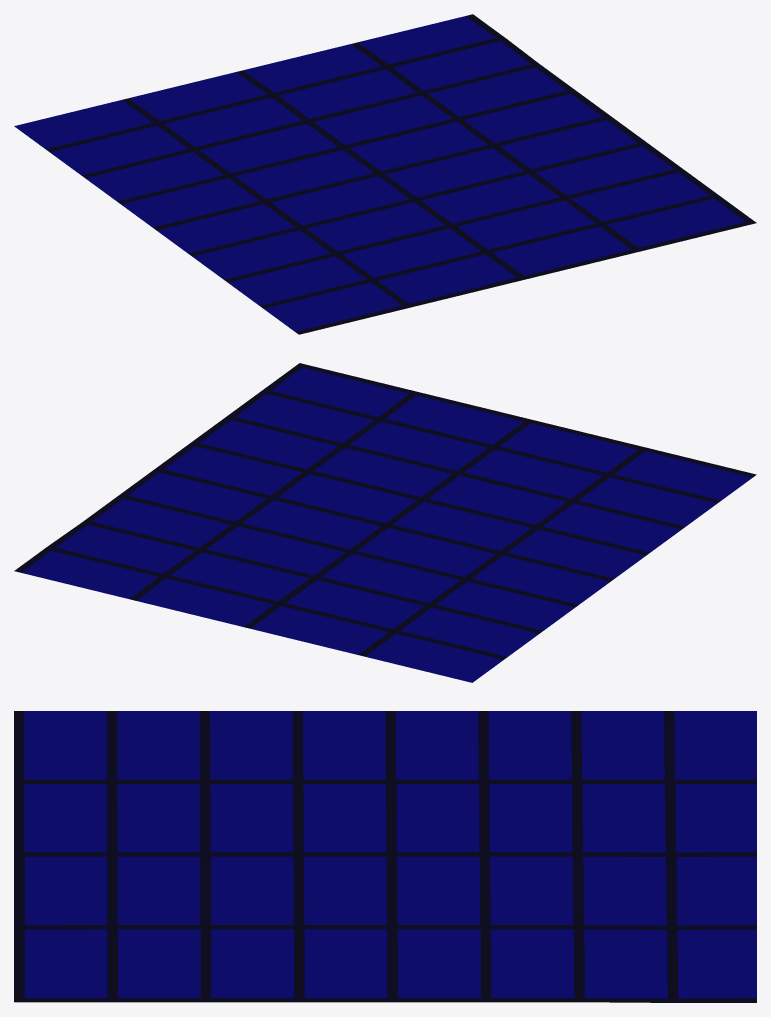
The model's file is sol.FBX.
The picture shows the model from 3 angles, top to bottom: view 1: azimuth 30°, elevation 25°; view 2: azimuth 150°, elevation 25°; view 3: azimuth 270°, elevation 25°; orthographic projection. The views are drawn at different scales.
Parts seen in each view (by area): view 1: Boîte001; view 2: Boîte001; view 3: Boîte001.
Part boxes in pixels (<box>): Boîte001: <box>14,14,756,334</box>; Boîte001: <box>14,363,756,682</box>; Boîte001: <box>14,711,756,1002</box>.
Size of the model in its own units: 4636 by 0.000334 by 4986.
